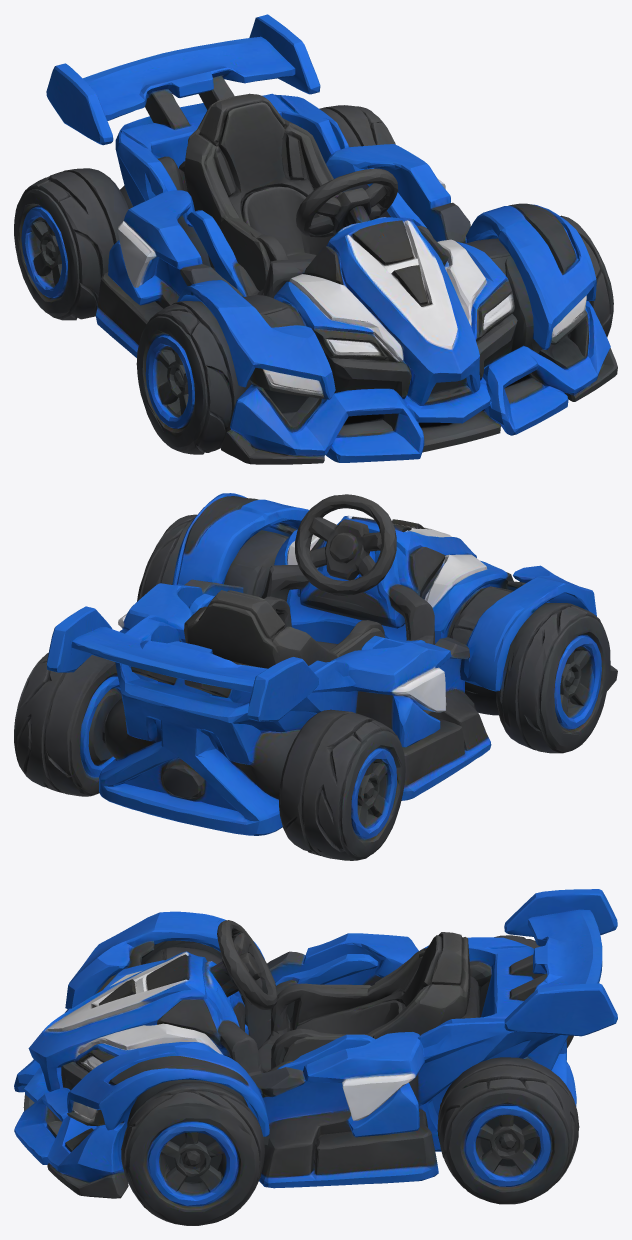
The picture shows the model from 3 angles, top to bottom: view 1: azimuth 30°, elevation 25°; view 2: azimuth 150°, elevation 25°; view 3: azimuth 270°, elevation 25°; orthographic projection. The views are drawn at different scales.
Parts seen in each view (by area): view 1: manta_body, wheel_rear_left, wheel_front_left, wheel_rear_right, wheel_front_right; view 2: manta_body, wheel_rear_left, wheel_front_left, wheel_rear_right, wheel_front_right; view 3: manta_body, wheel_rear_right, wheel_front_right.
Boxes of the visible parts, x1,y1,x2,y2 form: manta_body: (46,14,617,464); wheel_rear_left: (14,168,127,320); wheel_front_left: (136,301,251,454); wheel_rear_right: (319,105,395,146); wheel_front_right: (560,215,613,337); manta_body: (46,493,617,848); wheel_rear_left: (282,709,405,860); wheel_front_left: (496,603,610,753); wheel_rear_right: (14,653,105,796); wheel_front_right: (137,514,196,601); manta_body: (14,889,617,1198); wheel_rear_right: (437,1057,579,1204); wheel_front_right: (121,1081,264,1225).
Bounding box in the file's own units: 2.75 × 1.37 × 3.6.
Materials: 1 (1 with a texture image).
